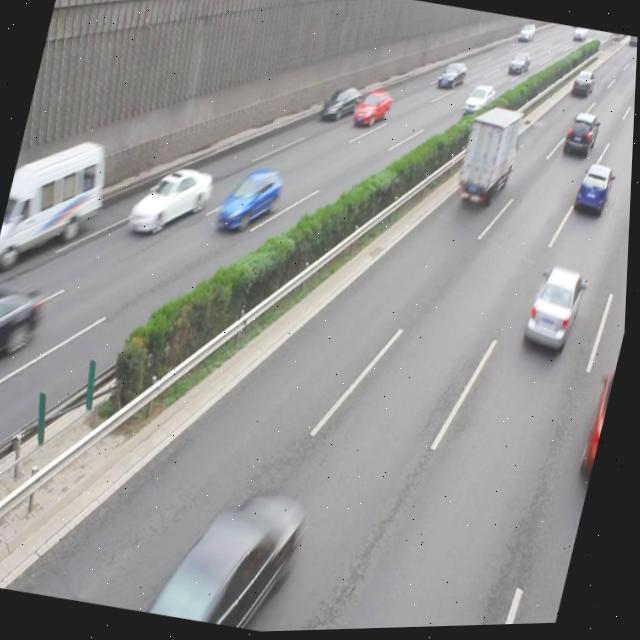bus: (455, 106, 526, 208)
car: (162, 481, 311, 636), (126, 159, 218, 245), (522, 263, 590, 360), (215, 164, 287, 241), (0, 280, 48, 386), (580, 366, 620, 485), (572, 162, 617, 226), (318, 83, 363, 129), (562, 112, 602, 163), (351, 86, 395, 132)
truck: (0, 130, 115, 273)
